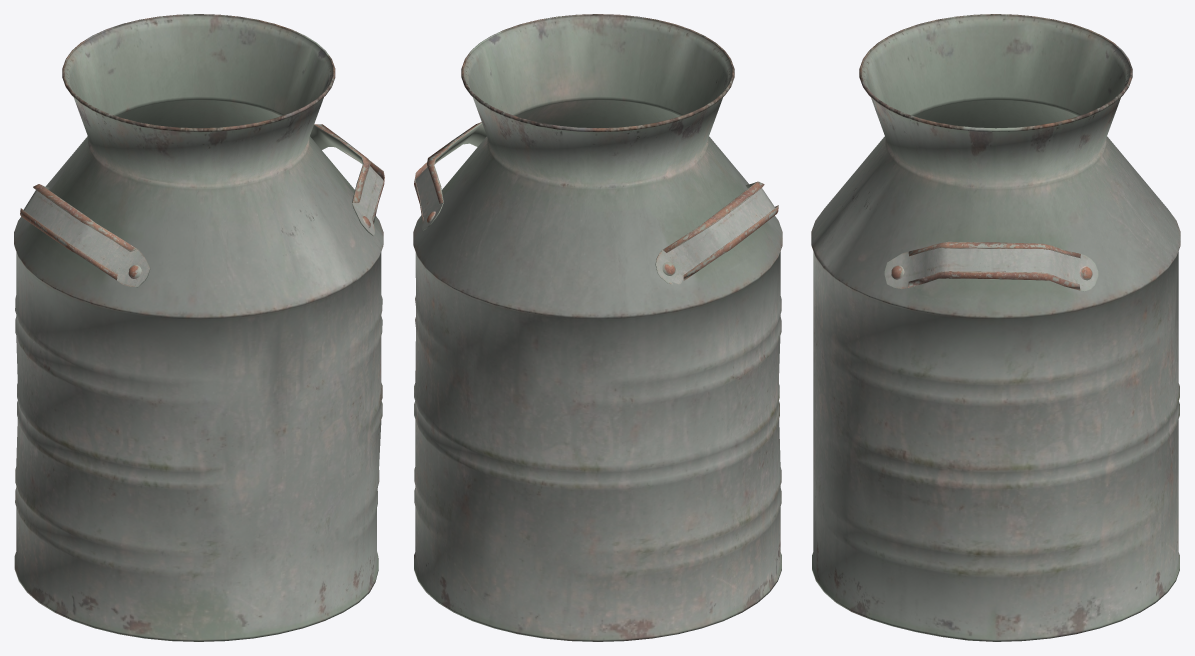
File: metal_jug.glb
3 renders of one model, left to right at view 1: azimuth 30°, elevation 25°; view 2: azimuth 150°, elevation 25°; view 3: azimuth 270°, elevation 25°, orthographic.
Parts seen in each view (by area): view 1: metal_jug; view 2: metal_jug; view 3: metal_jug.
Boxes of the visible parts, x1,y1,x2,y2 form: metal_jug: (14, 14, 384, 641); metal_jug: (413, 14, 782, 641); metal_jug: (811, 14, 1180, 641).
Size of the model in its own units: 0.1968 by 0.2875 by 0.1955.
Materials: 1 (1 with a texture image).
